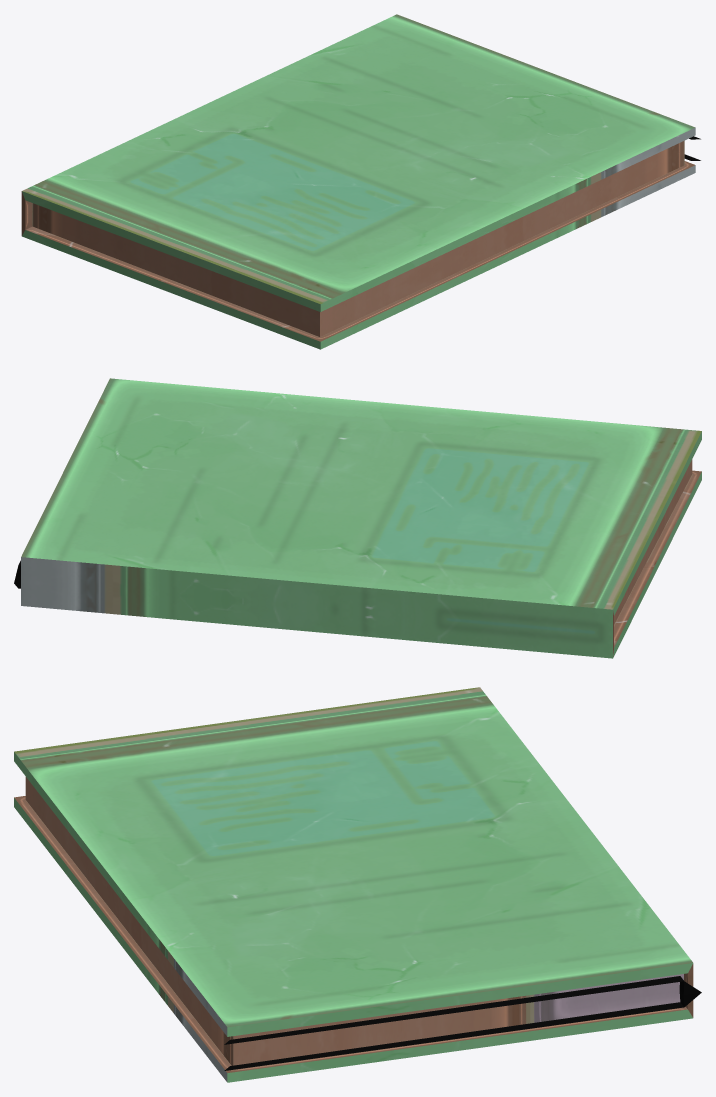
The model's file is oldbookclosed.fbx.
3 renders of one model, top to bottom at view 1: azimuth 30°, elevation 25°; view 2: azimuth 150°, elevation 25°; view 3: azimuth 270°, elevation 25°, orthographic. The views are drawn at different scales.
Parts seen in each view (by area): view 1: Books.001; view 2: Books.001; view 3: Books.001.
Part boxes in pixels (x1=…): Books.001: x1=21, y1=14, x2=700, y2=349; Books.001: x1=14, y1=378, x2=701, y2=658; Books.001: x1=14, y1=687, x2=701, y2=1082.
Bounding box in the file's own units: 42.95 × 36.01 × 3.2.
